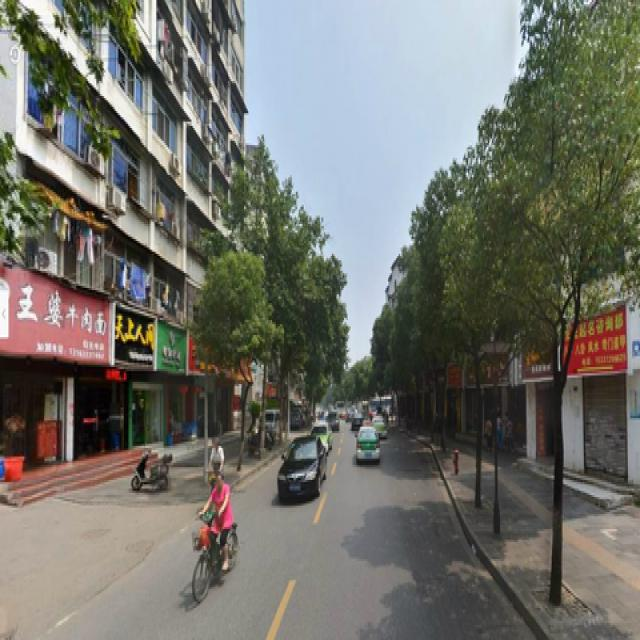cinn: (485, 64, 600, 595), (200, 260, 261, 465)
